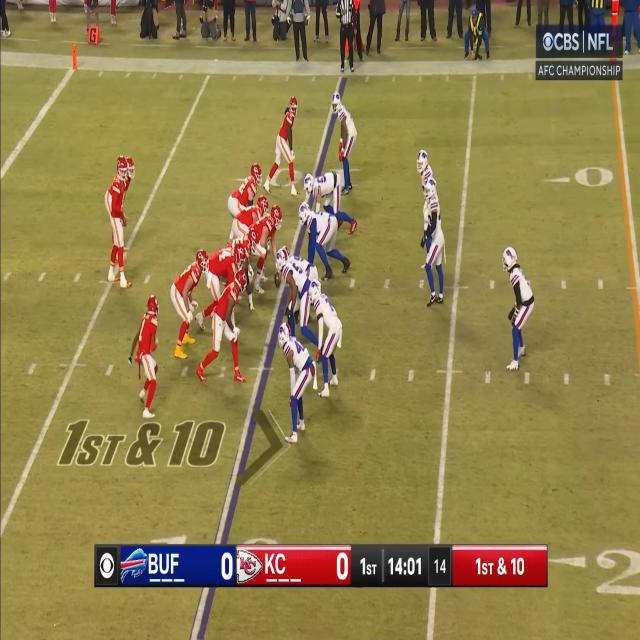Ball: (274, 273, 281, 288)
